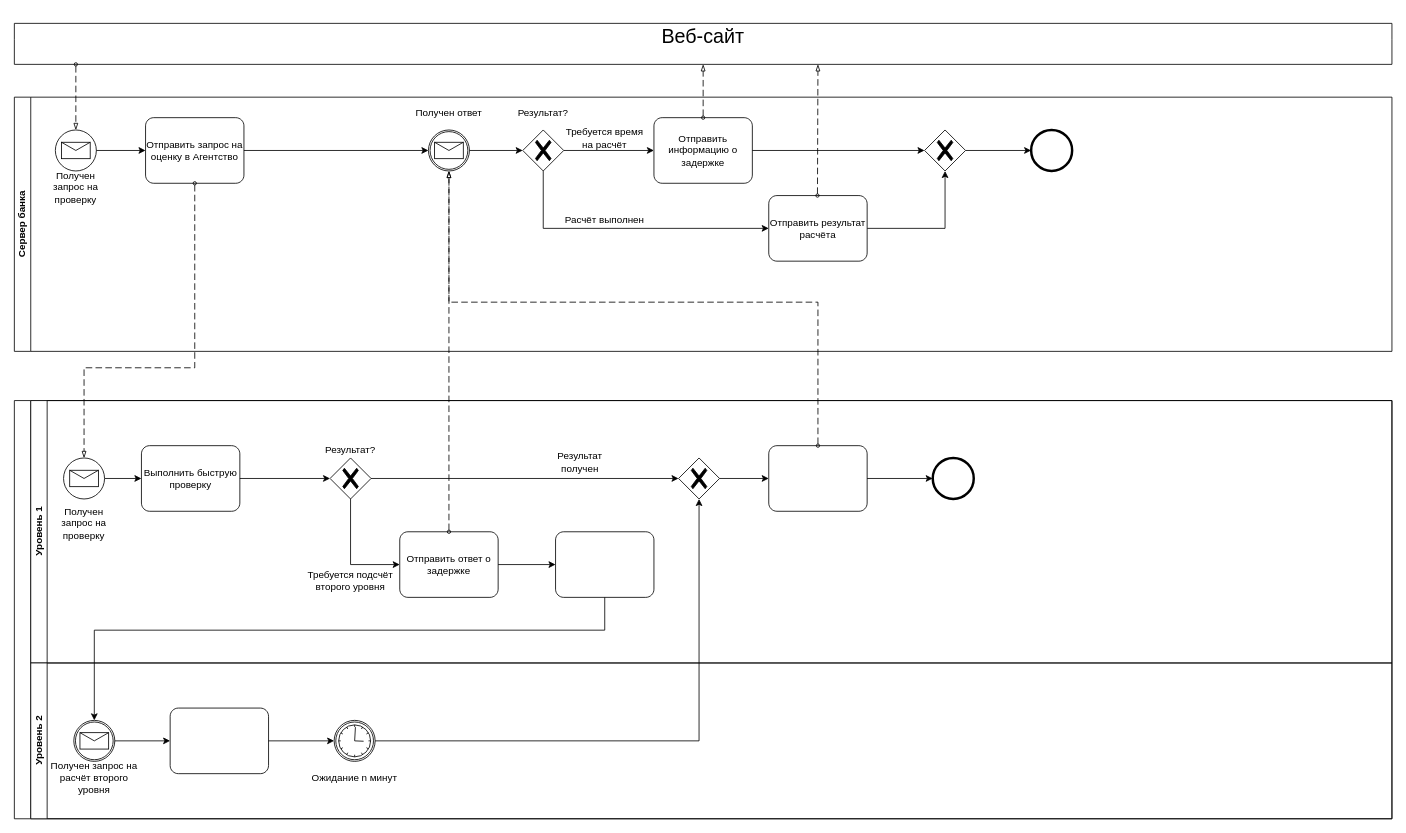
The diagram is 1406 pixels wide and 833 high, and some of its shapes have lost their labels. The shapes that lost their labels are listed below. From the top down, each one's box as (x1, y1, x2, y2) in pixels, then its label:
(768, 445, 867, 511): Отправить результат на сервер банка
(555, 531, 654, 597): Направить запрос на 2 уровень
(14, 400, 1392, 819): Агенство по защите кредитов
(169, 707, 269, 774): Подсчитать баллы второго уровня
